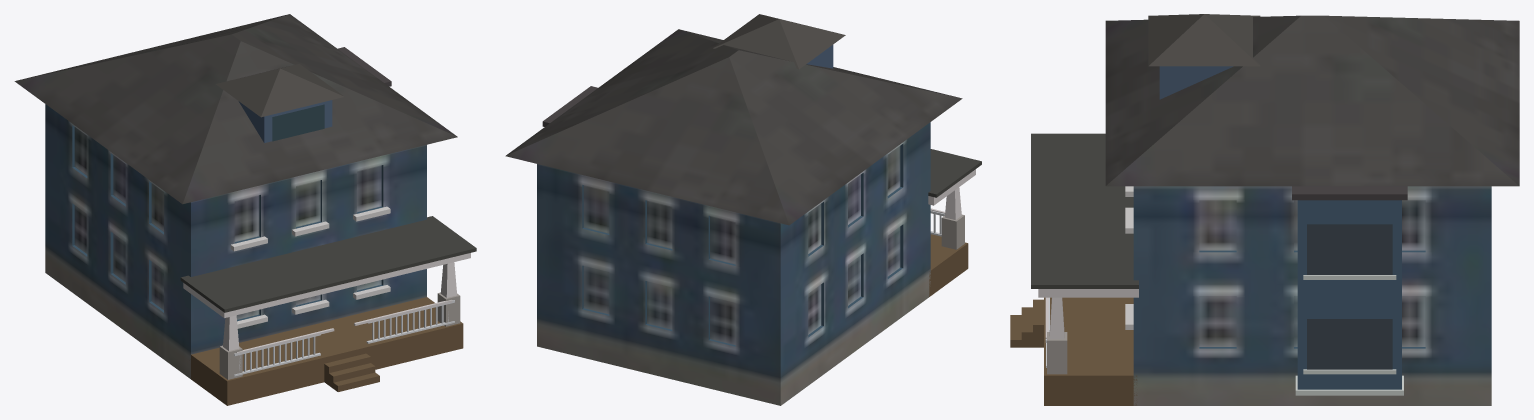
File: seattle_house_b.glb
3 renders of one model, left to right at view 1: azimuth 30°, elevation 25°; view 2: azimuth 150°, elevation 25°; view 3: azimuth 270°, elevation 25°, orthographic. The views are drawn at different scales.
Visible parts, largest first — view 1: seattle_house_b; view 2: seattle_house_b; view 3: seattle_house_b.
Boxes of the visible parts, x1,y1,x2,y2 form: seattle_house_b: (14, 14, 476, 405); seattle_house_b: (505, 14, 981, 405); seattle_house_b: (1010, 14, 1519, 405).
Bounding box in the file's own units: 10.85 × 9.5 × 13.65.
1 material, 1 textured.
